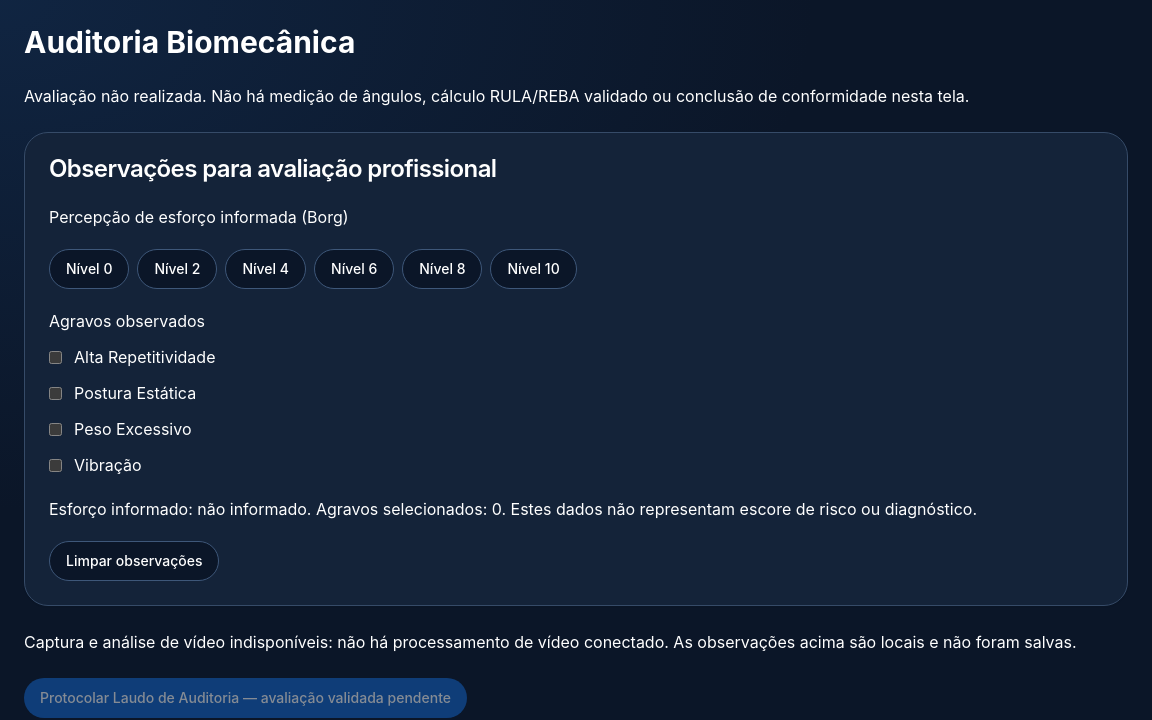
Test: keeps manual observations separate from clinical scores and can reset them
The width and height of the screenshot is (1152, 720).
Click the button "Nível 10".
click(534, 269)  # box [490,249,577,289]
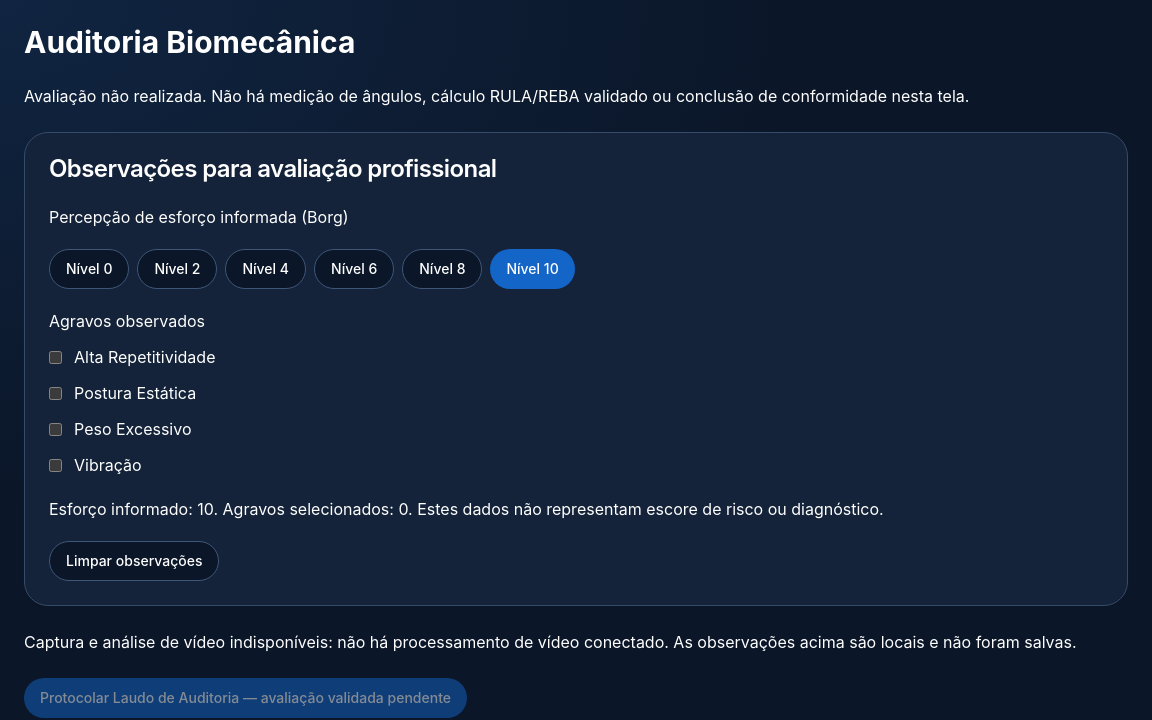
Click the checkbox labelled "Alta Repetitividade".
click(56, 357)  # box [49,350,62,364]
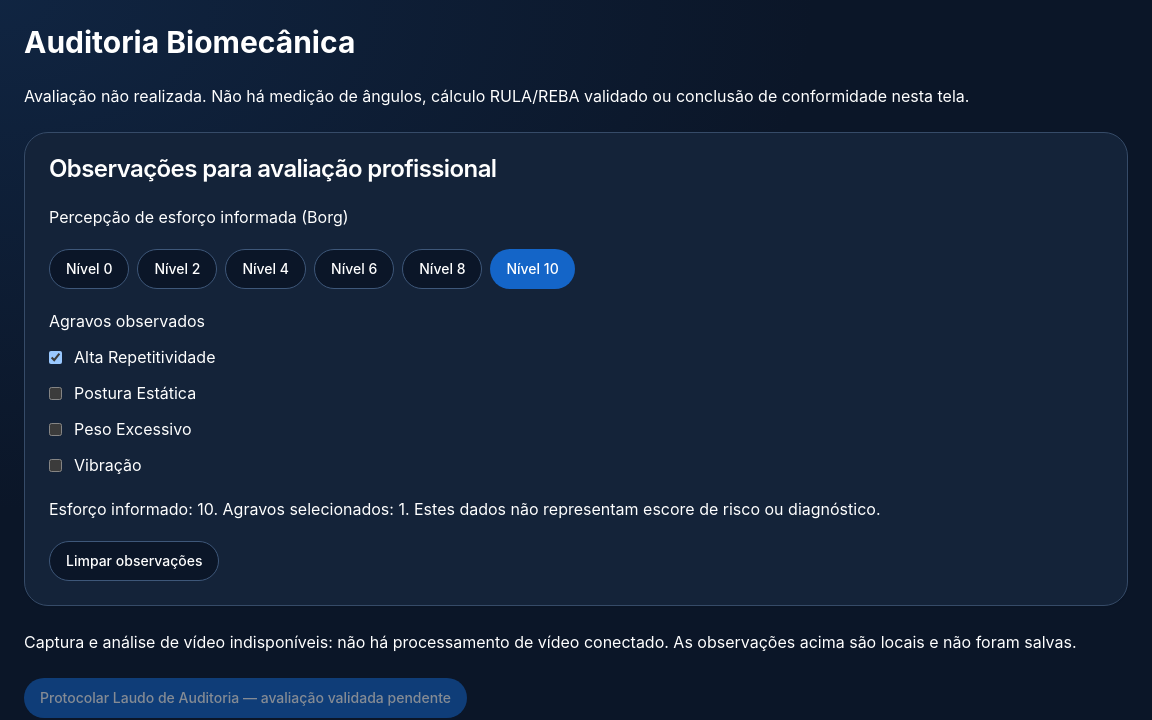
Click the checkbox labelled "Postura Estática".
click(56, 393)  # box [49,386,62,400]
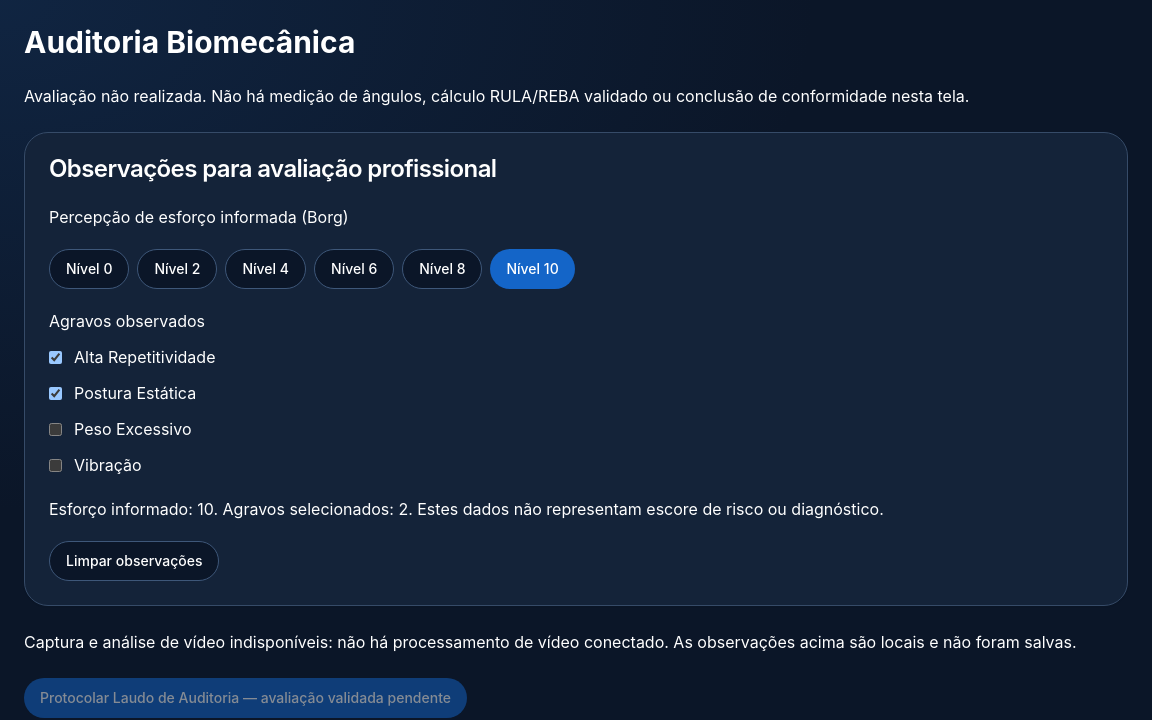
Click the checkbox labelled "Peso Excessivo".
click(56, 429)  # box [49,422,62,436]
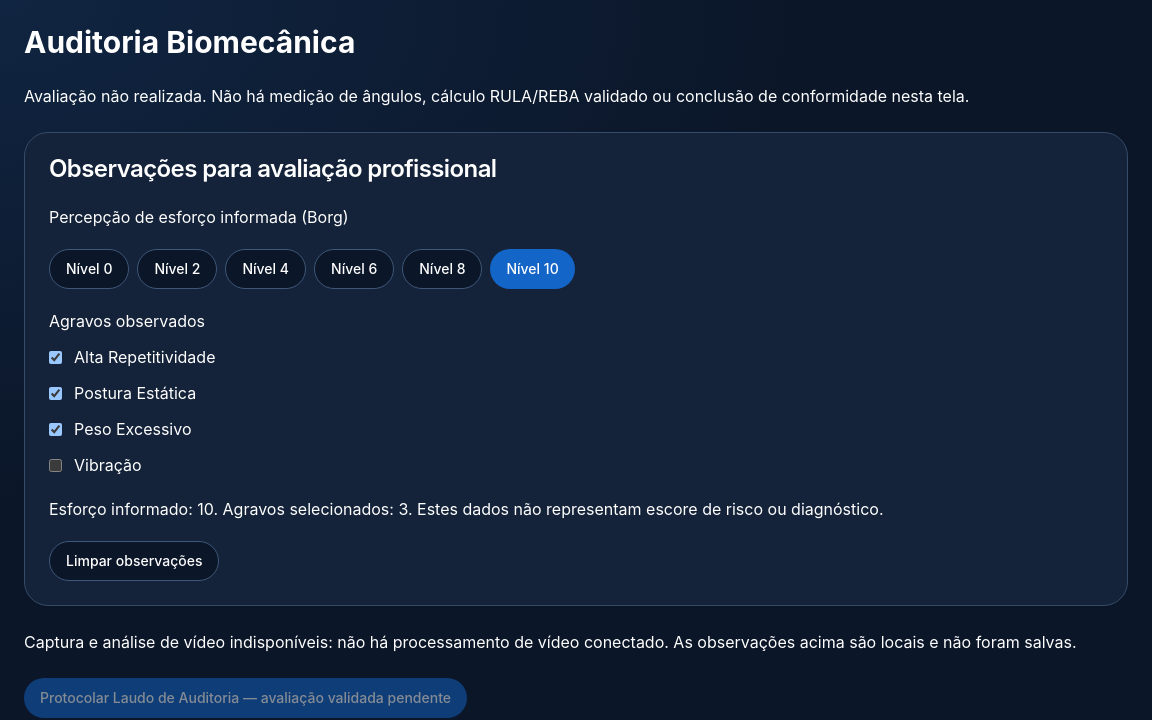
Click the checkbox labelled "Vibração".
click(56, 465)  # box [49,458,62,472]
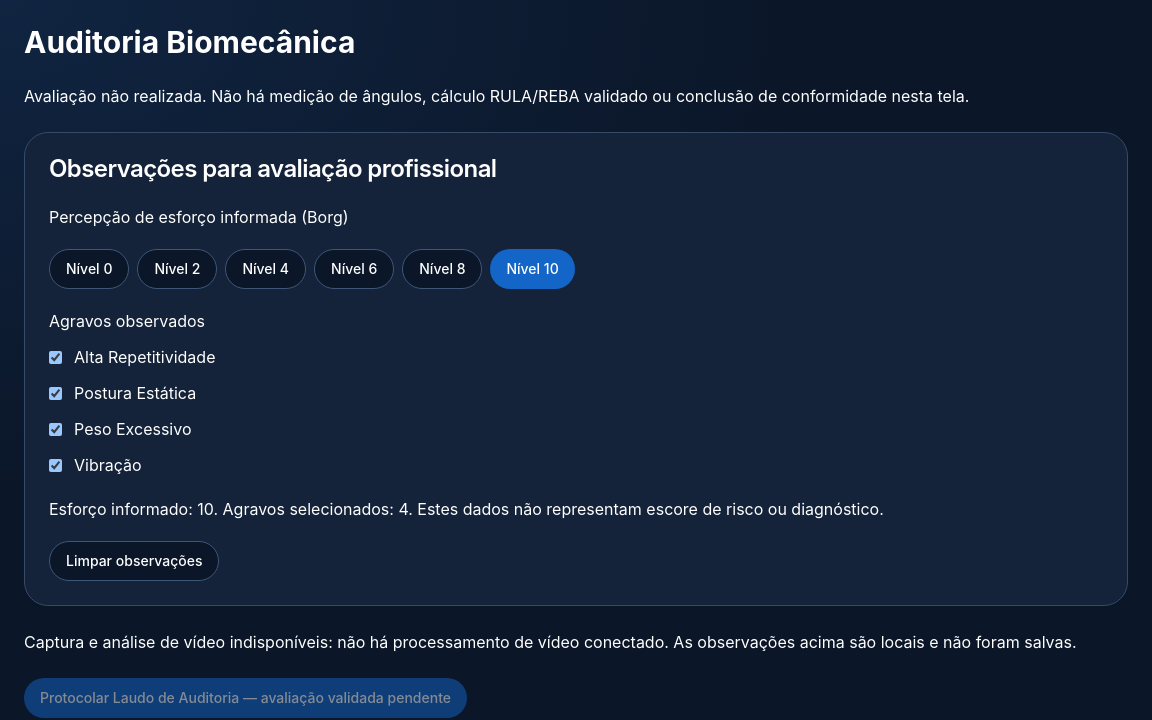
Check: the button "Protocolar Laudo de Auditoria — avaliação validada pendente" is disabled, box [24,678,467,718]
Check: the text "Esforço informado: 10" is shown, box [49,499,884,519]
Check: the text "Agravos selecionados: 4" is shown, box [49,499,884,519]
Click the button "Limpar observações".
click(134, 561)  # box [49,541,220,581]
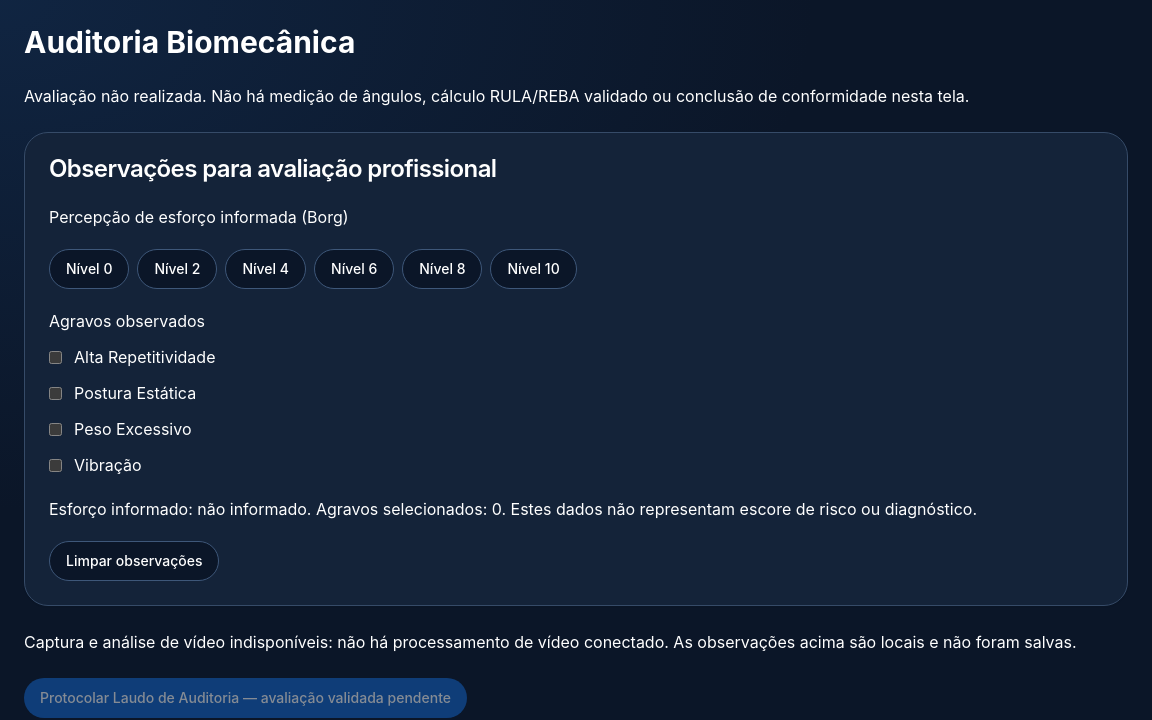
Check: the text "Agravos selecionados: 0" is shown, box [49,497,1103,521]
Check: the text "Esforço informado: não informado" is shown, box [49,497,1103,521]
